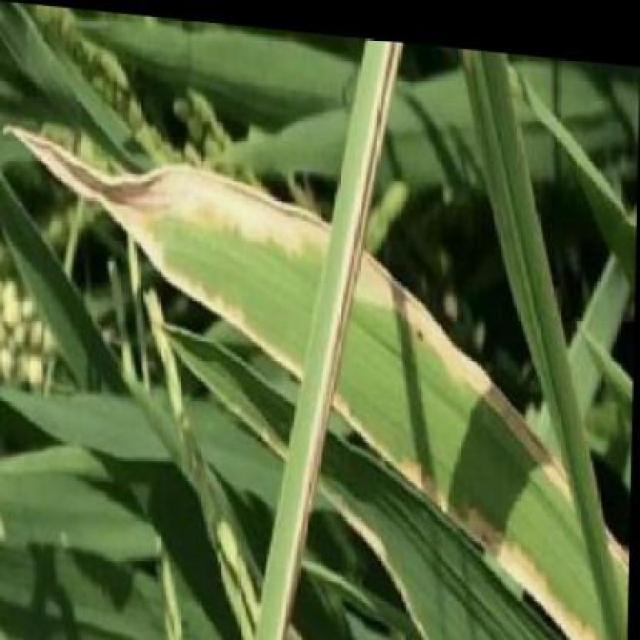Brown_Spot: (107, 154, 339, 343)
